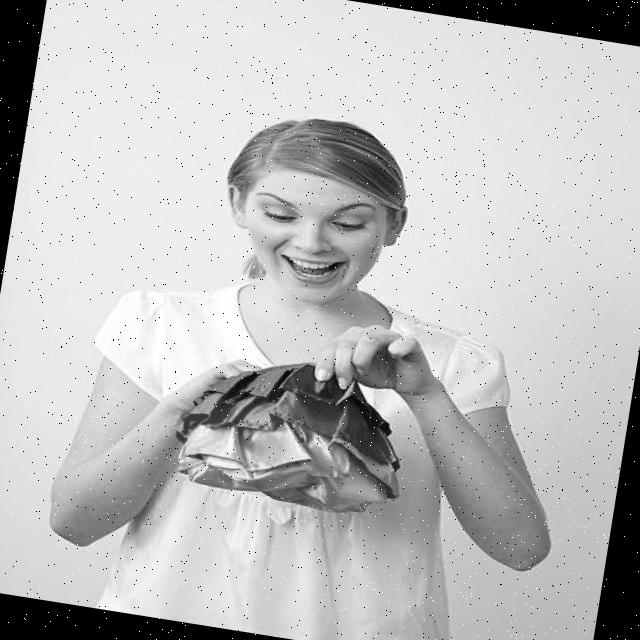Surprised: (234, 162, 394, 313)
